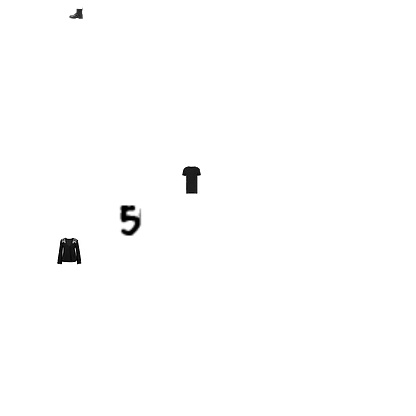5: (108, 198, 150, 240)
Ankle_boot: (69, 6, 83, 20)
Shirt: (55, 237, 83, 265)
T-shirt/top: (177, 166, 205, 194)
